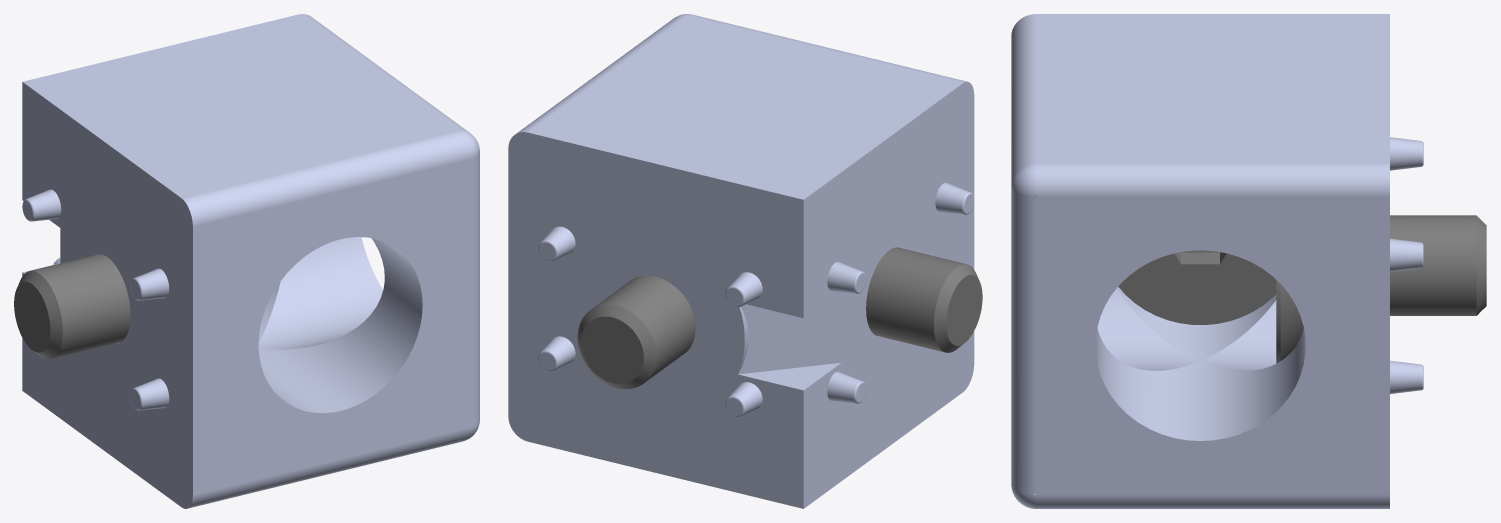
File: TPHL-TPHL-4510-B-ZP.glb
3 views of the same model, side by side, from view 1: azimuth 30°, elevation 25°; view 2: azimuth 150°, elevation 25°; view 3: azimuth 270°, elevation 25° (orthographic). The views are drawn at different scales.
Parts seen in each view (by area): view 1: NAUO1, NAUO3; view 2: NAUO1, NAUO3, NAUO2; view 3: NAUO1, NAUO2, NAUO3.
Boxes of the visible parts, x1,y1,x2,y2 form: NAUO1: [22, 14, 479, 508]; NAUO3: [14, 254, 130, 359]; NAUO1: [508, 14, 974, 508]; NAUO3: [866, 247, 982, 352]; NAUO2: [577, 275, 695, 389]; NAUO1: [1011, 14, 1423, 508]; NAUO2: [1276, 215, 1486, 363]; NAUO3: [1118, 250, 1276, 324].
Bounding box in the file's own units: 0.0565 × 0.045 × 0.0565.
